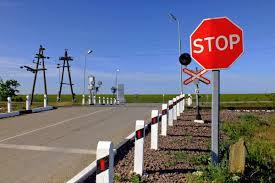Pole: (211, 71, 219, 163)
Sign: (189, 17, 243, 70)
